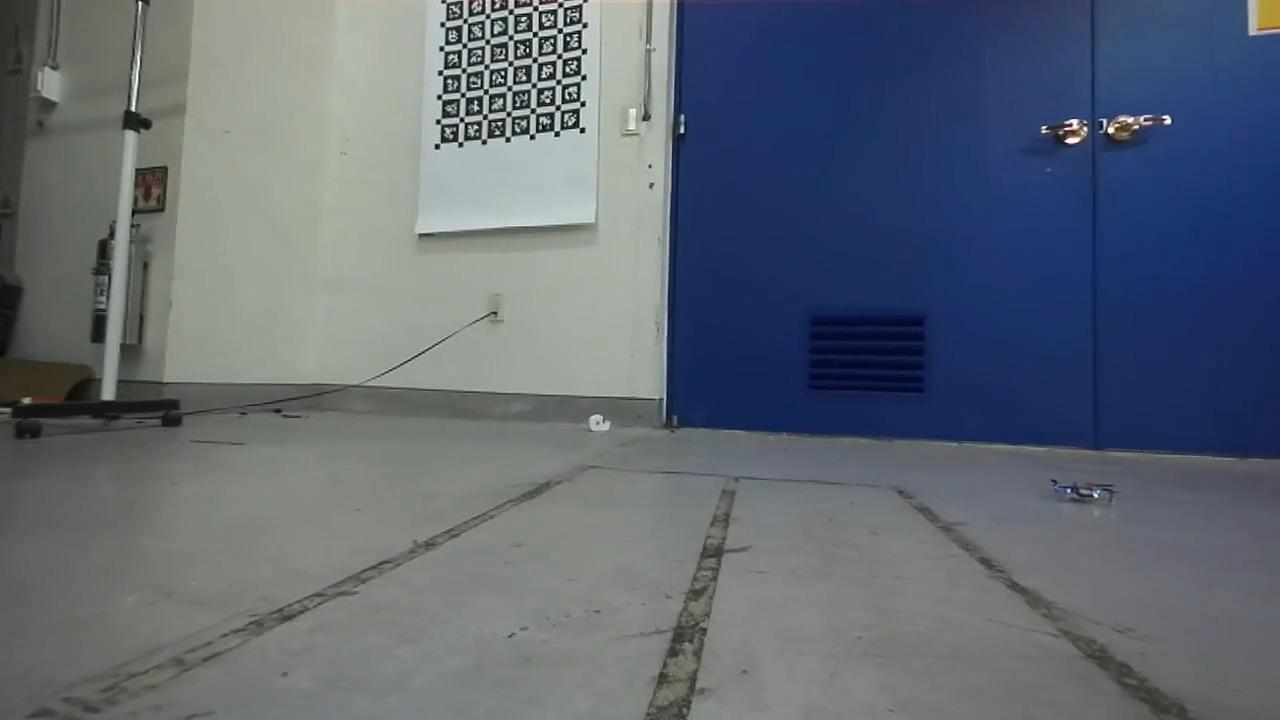crazyflie: (1047, 475, 1118, 509)
